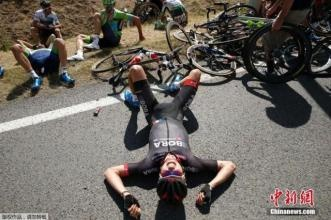falling: (145, 0, 192, 29)
